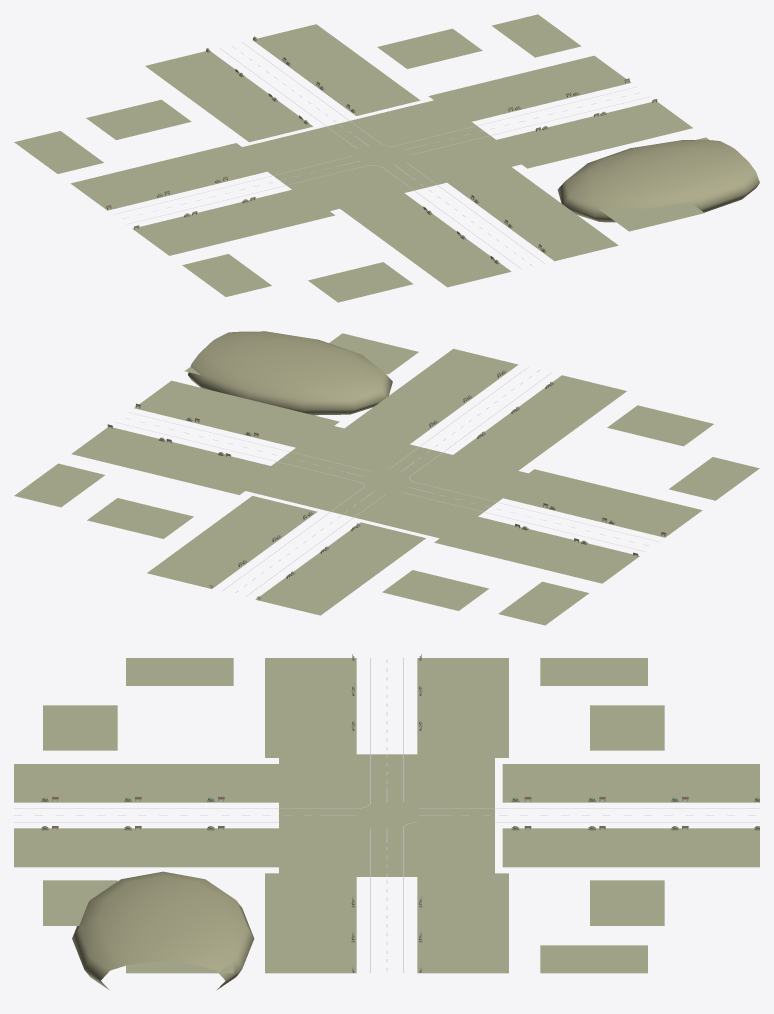
The picture shows the model from 3 angles, top to bottom: view 1: azimuth 30°, elevation 25°; view 2: azimuth 150°, elevation 25°; view 3: azimuth 270°, elevation 25°; orthographic projection. The views are drawn at different scales.
Parts seen in each view (by area): view 1: static; view 2: static; view 3: static.
Part boxes in pixels (left/top/right/bottom): static: left=14, top=14, right=759, bottom=302; static: left=14, top=331, right=759, bottom=625; static: left=14, top=654, right=759, bottom=990.
Size of what is drawn, in the model's own units: 180 by 14.08 by 180.
